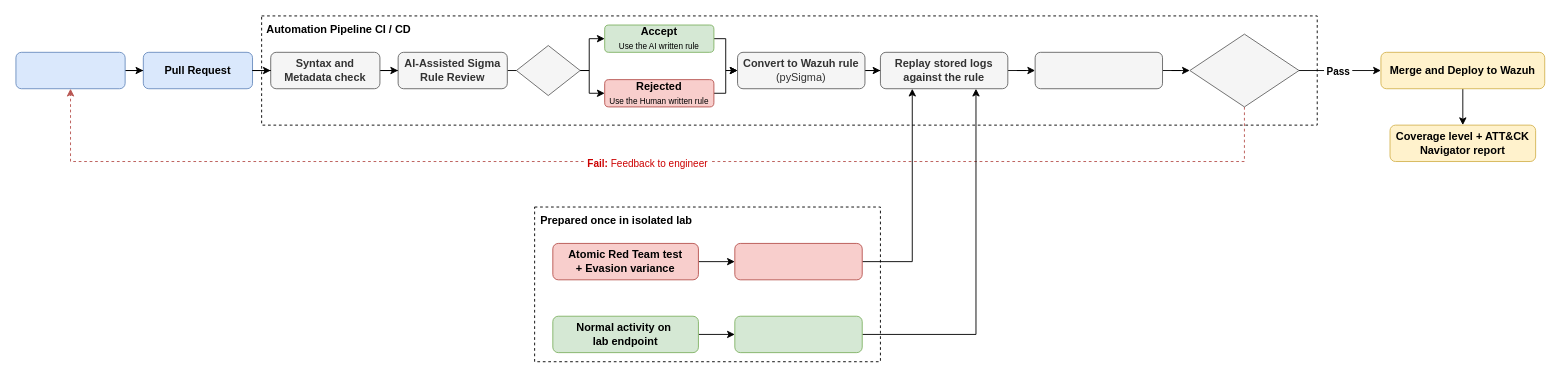
This 1561x378 diagram has some shape labels left out. The shapes that lost their labels are listed below. From the top down, each one's box as (x1, y1, x2, y2) in pixels, then its label:
(15, 51, 125, 89): Engineer writes Sigma Rules
(516, 45, 580, 96): Review
(1034, 51, 1163, 89): Variant Detection rate + False-postive rate
(1189, 33, 1299, 107): Peer Review
(734, 243, 862, 280): Recorded attack logs
(734, 315, 862, 353): Recorded benign baseline
